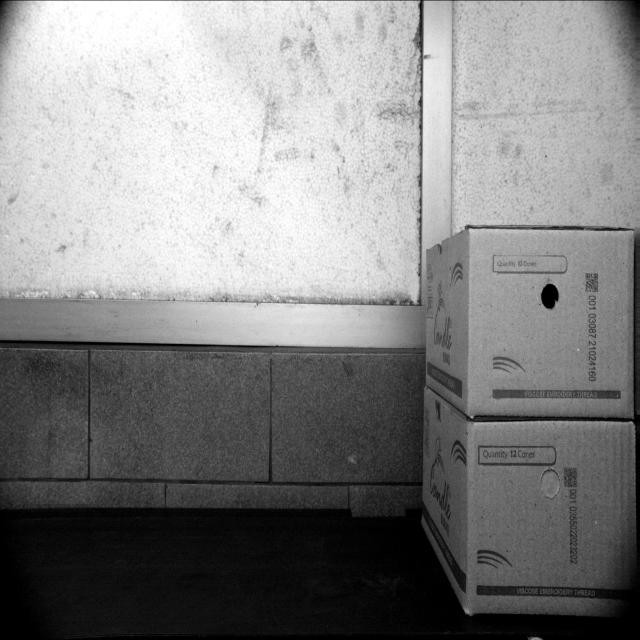cardboxes: (462, 223, 638, 424), (466, 432, 640, 623)
